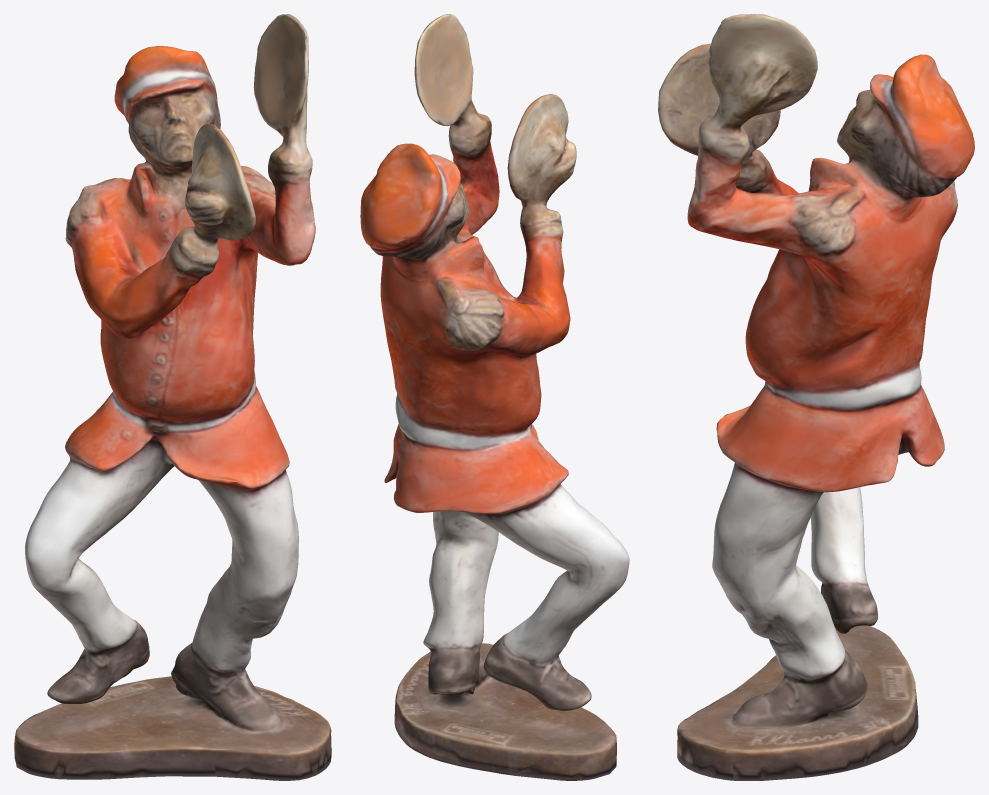
File: khanna-satwant-sher-singh-cymbal-walae.glb
3 renders of one model, left to right at view 1: azimuth 30°, elevation 25°; view 2: azimuth 150°, elevation 25°; view 3: azimuth 270°, elevation 25°, orthographic. The views are drawn at different scales.
Visible parts, largest first — view 1: Mesh; view 2: Mesh; view 3: Mesh.
Part boxes in pixels (x1,y1,x2,y2): Mesh: (14,14,331,780); Mesh: (360,14,629,780); Mesh: (658,14,974,780).
Bounding box in the file's own units: 7.91 × 21.16 × 8.04.
1 material, 1 textured.
